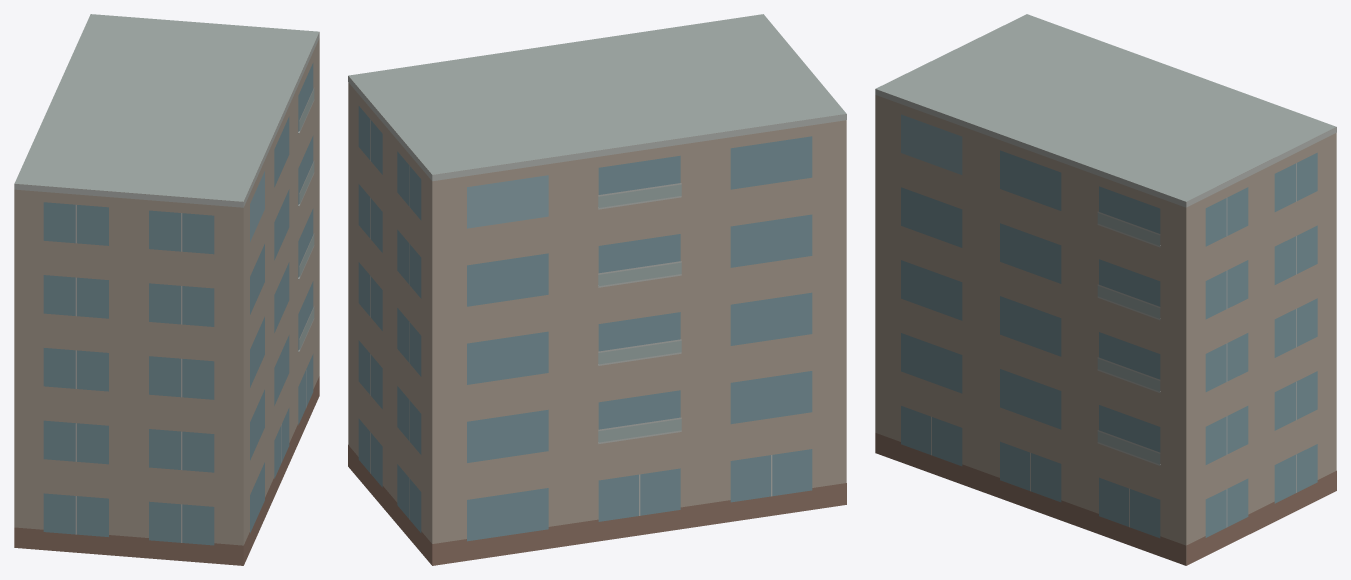
File: survey-upis-32892525.glb
3 renders of one model, left to right at view 1: azimuth 30°, elevation 25°; view 2: azimuth 150°, elevation 25°; view 3: azimuth 270°, elevation 25°, orthographic. The views are drawn at different scales.
Visible parts, largest first — view 1: survey-upis-32892525.tmp; view 2: survey-upis-32892525.tmp; view 3: survey-upis-32892525.tmp.
Part boxes in pixels (left/top/right/bottom): survey-upis-32892525.tmp: left=14, top=14, right=319, bottom=565; survey-upis-32892525.tmp: left=348, top=14, right=846, bottom=565; survey-upis-32892525.tmp: left=875, top=14, right=1336, bottom=565.
Size of the model in its own units: 16.71 by 15.1 by 17.35.
